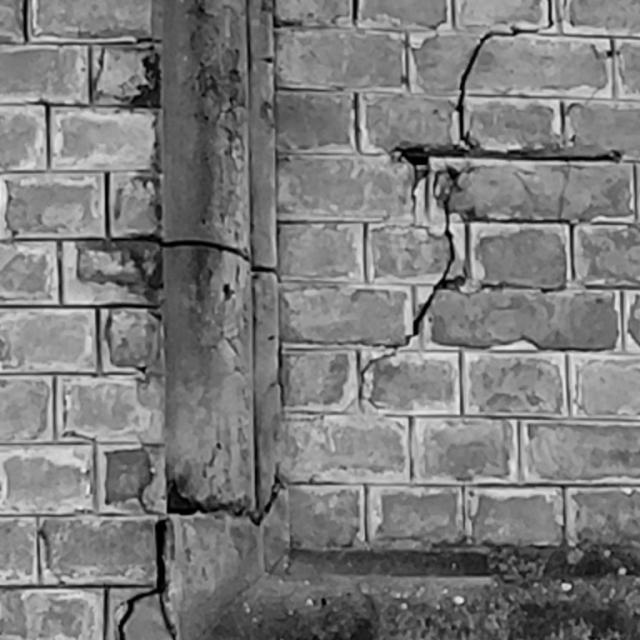crack: (359, 26, 623, 397), (117, 520, 176, 640)
